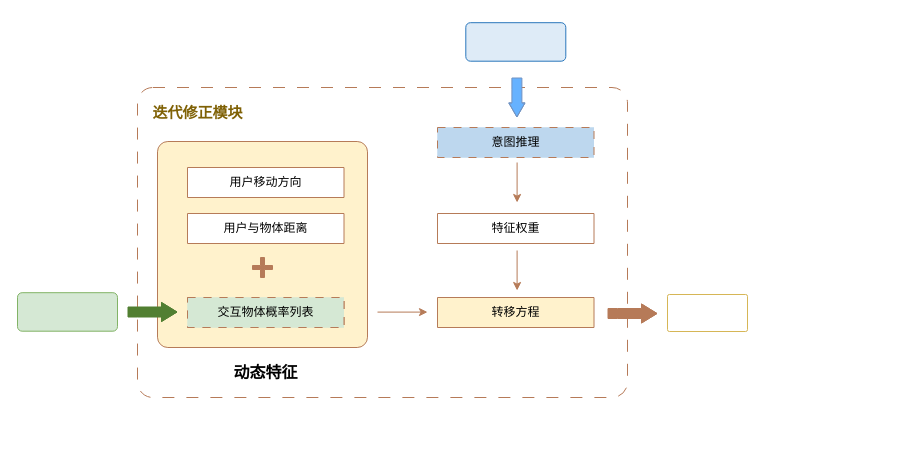
Image size: 910x453. Some labels were removed from this diagram. The shapes that lost their labels are listed below. From the top down, each one's centre as x and y in pixels, then its label:
(x=515, y=41): 高级推理
(x=67, y=311): 低级推理
(x=707, y=313): 预测目标
